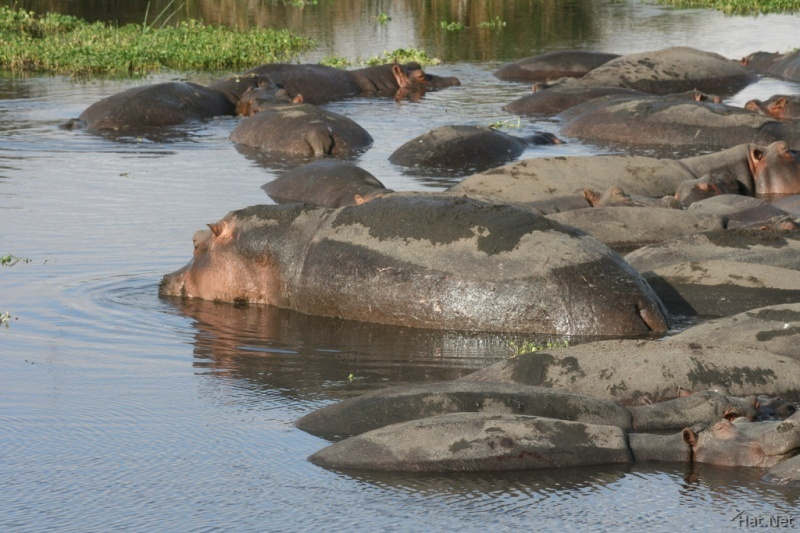hipopotamo: (158, 195, 680, 350), (308, 410, 800, 506), (285, 367, 774, 439), (459, 134, 800, 208), (558, 96, 800, 154), (63, 69, 237, 143), (387, 109, 570, 177), (231, 82, 378, 165), (246, 61, 464, 109)
